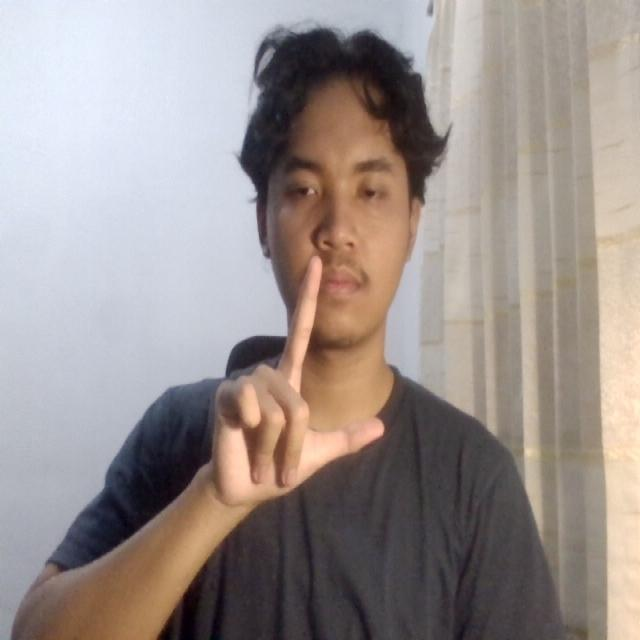I: (176, 245, 406, 531)
